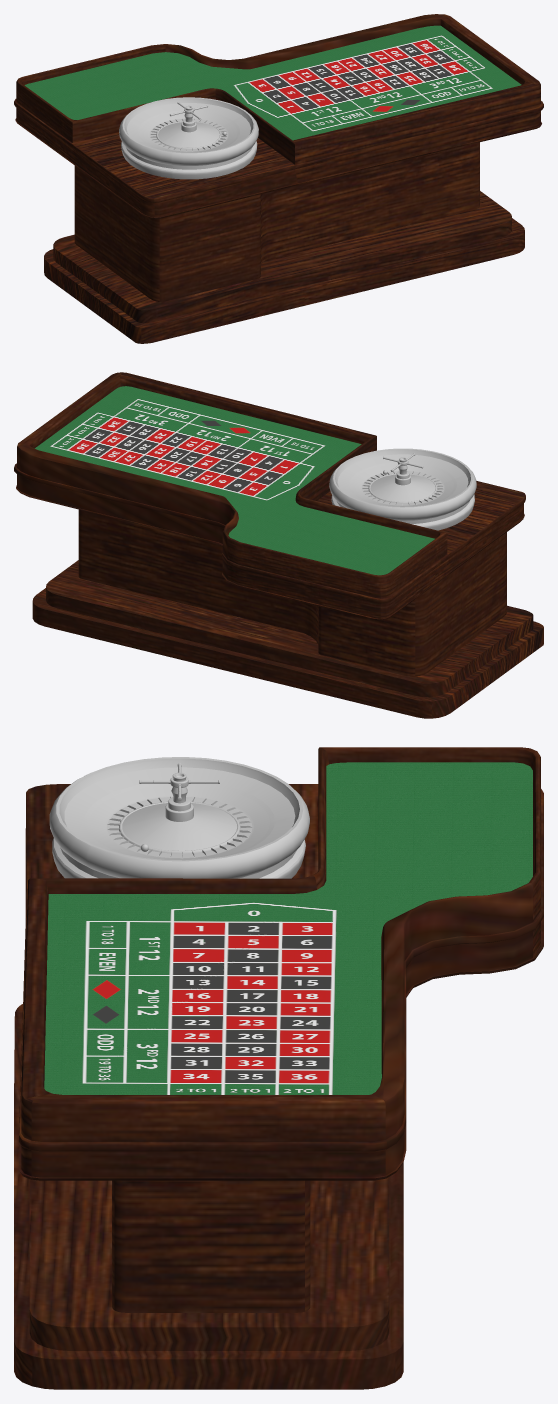
File: Roulette Table.fbx
3 views of the same model, one above another, from view 1: azimuth 30°, elevation 25°; view 2: azimuth 150°, elevation 25°; view 3: azimuth 270°, elevation 25° (orthographic). The views are drawn at different scales.
Visible parts, largest first — view 1: Table.003_Table_0.001, Table.003_Wheel_0.001; view 2: Table.003_Table_0.001, Table.003_Wheel_0.001; view 3: Table.003_Table_0.001, Table.003_Wheel_0.001.
Boxes of the visible parts, left/top/right/bottom form: Table.003_Table_0.001: left=14, top=14, right=543, bottom=343; Table.003_Wheel_0.001: left=119, top=97, right=258, bottom=179; Table.003_Table_0.001: left=14, top=372, right=543, bottom=718; Table.003_Wheel_0.001: left=329, top=448, right=476, bottom=530; Table.003_Table_0.001: left=14, top=747, right=543, bottom=1389; Table.003_Wheel_0.001: left=49, top=757, right=309, bottom=878.
Bounding box in the file's own units: 733 × 314 × 441.
